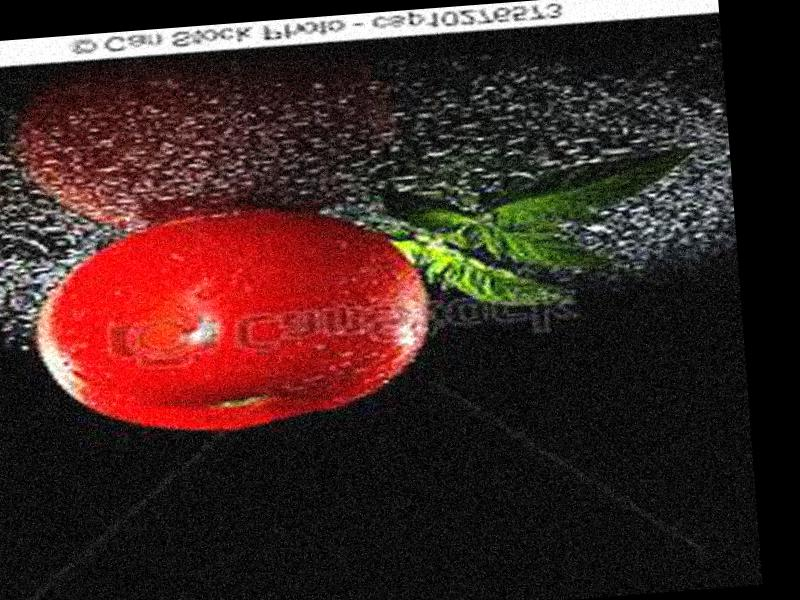Tomato: (30, 198, 435, 443)
